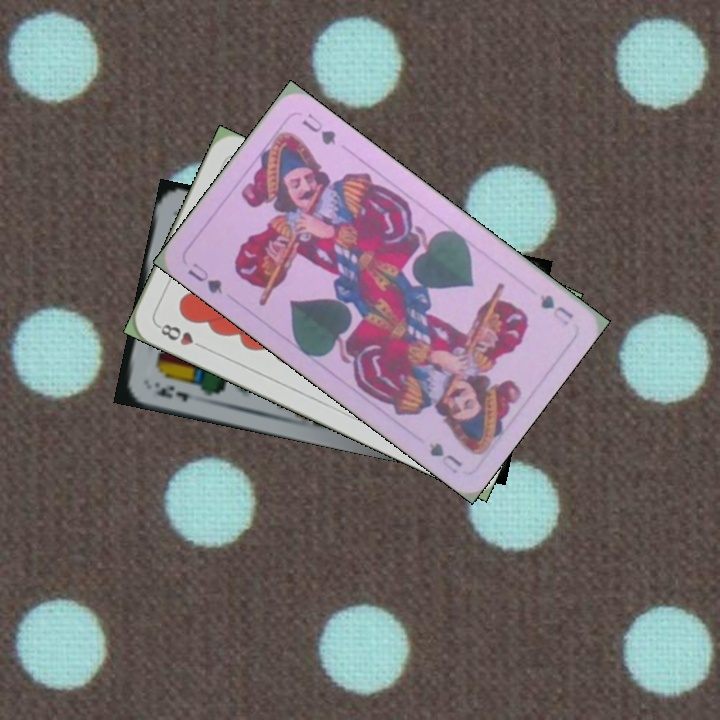EK: (150, 378, 192, 404)
GU: (184, 258, 226, 297), (535, 290, 577, 328)
H8: (153, 320, 209, 352)
